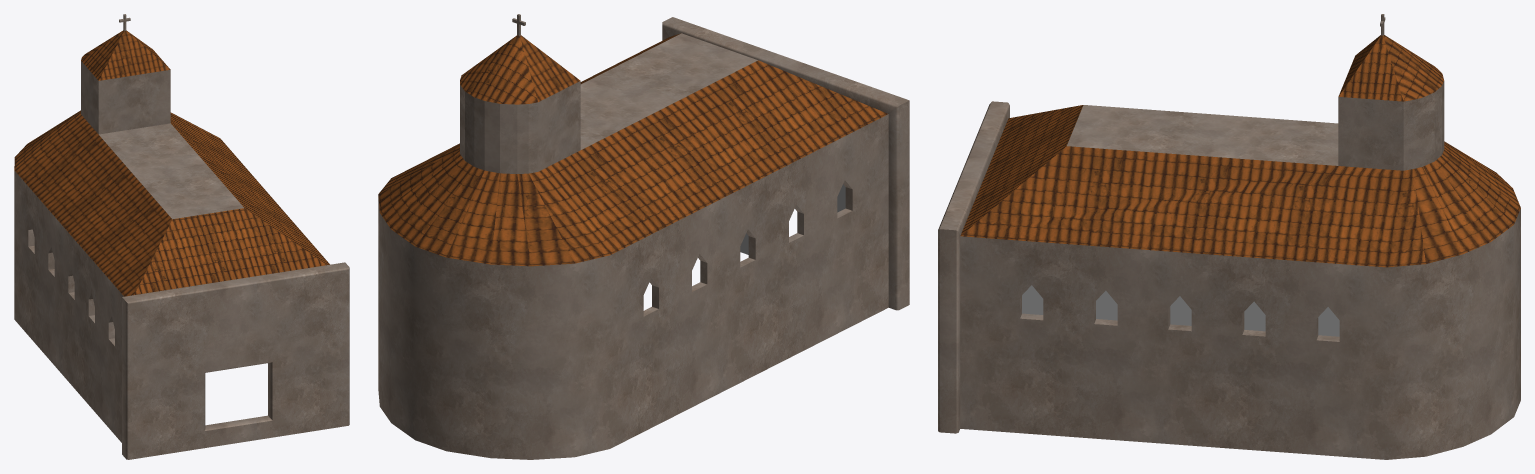
The model's file is Iglesia.fbx.
The picture shows the model from 3 angles, left to right: view 1: azimuth 30°, elevation 25°; view 2: azimuth 150°, elevation 25°; view 3: azimuth 270°, elevation 25°; orthographic projection. The views are drawn at different scales.
Parts seen in each view (by area): view 1: Iglesia; view 2: Iglesia; view 3: Iglesia.
Part boxes in pixels (bbox=[...]): Iglesia: bbox=[14, 14, 349, 459]; Iglesia: bbox=[378, 14, 909, 459]; Iglesia: bbox=[938, 14, 1520, 459].
Size of the model in its own units: 15.57 by 17.96 by 24.69.
